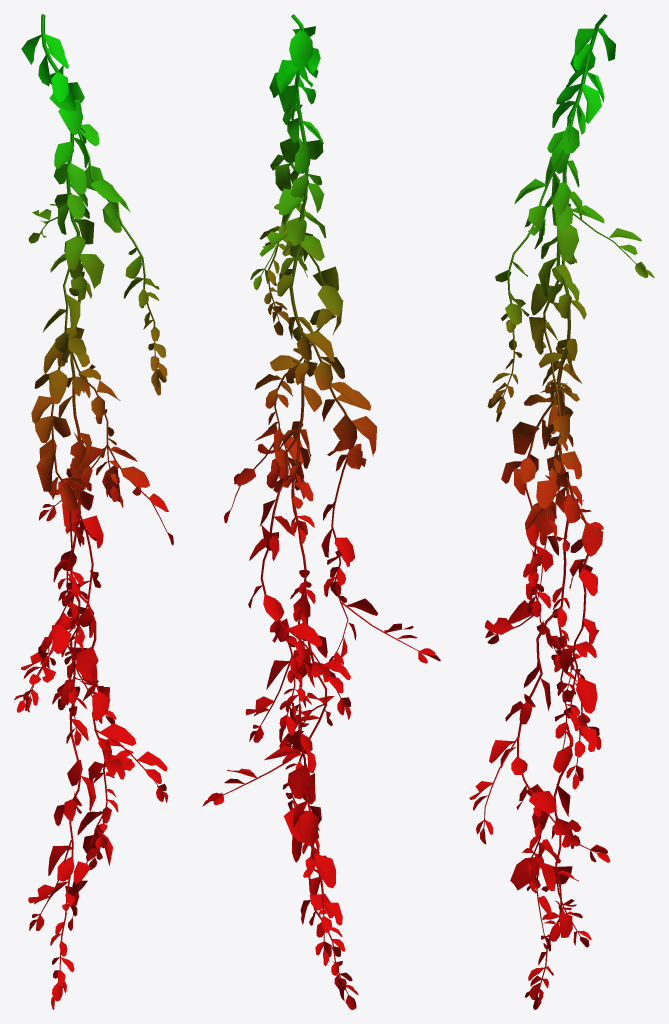
The model's file is Var8_LOD2.fbx.
3 views of the same model, side by side, from view 1: azimuth 30°, elevation 25°; view 2: azimuth 150°, elevation 25°; view 3: azimuth 270°, elevation 25° (orthographic). The views are drawn at different scales.
Parts seen in each view (by area): view 1: _3ev0_Var8_LOD2; view 2: _3ev0_Var8_LOD2; view 3: _3ev0_Var8_LOD2.
Boxes of the visible parts, x1,y1,x2,y2 form: _3ev0_Var8_LOD2: (14,14,173,1009); _3ev0_Var8_LOD2: (202,14,440,1009); _3ev0_Var8_LOD2: (469,14,654,1009).
Bounding box in the file's own units: 41.99 × 216 × 36.02.
